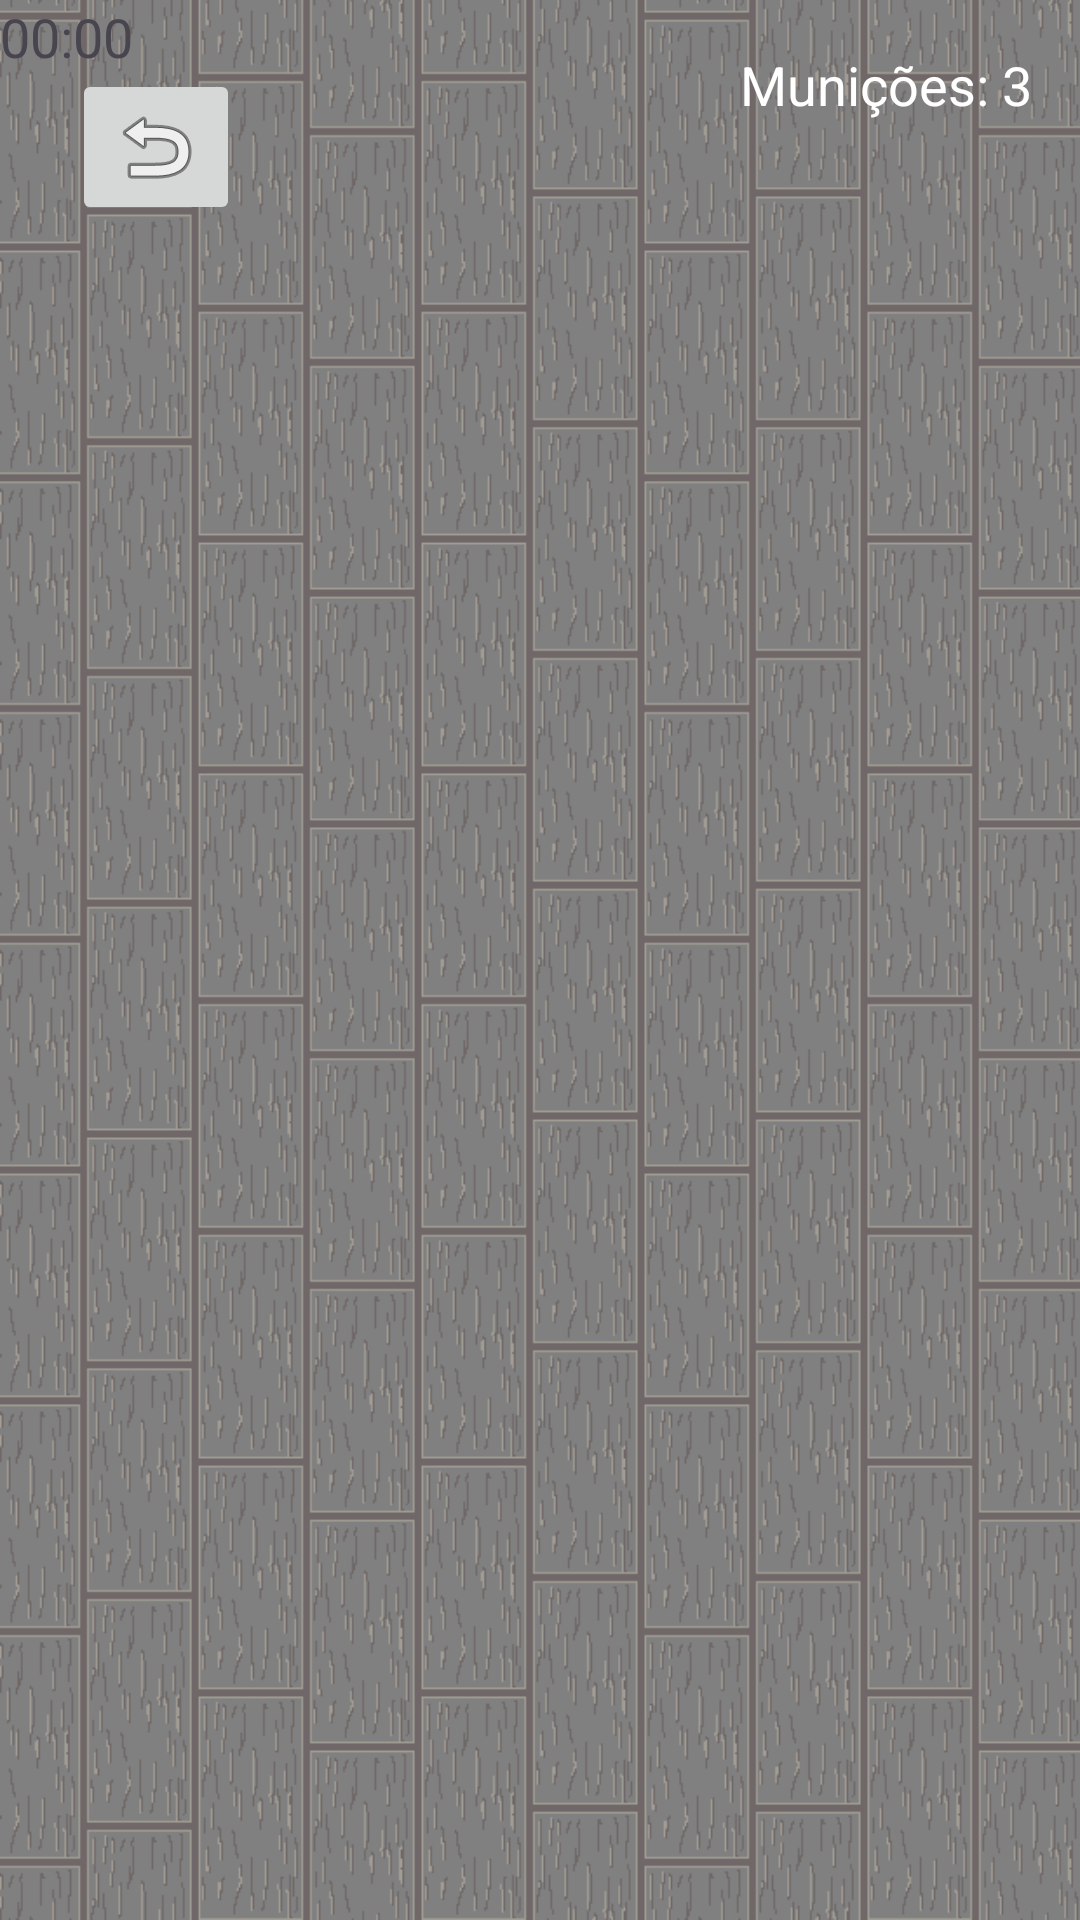

Named icons in this screenshot (1080*1920) and their centers, (x,y):
revert: (156,147)
